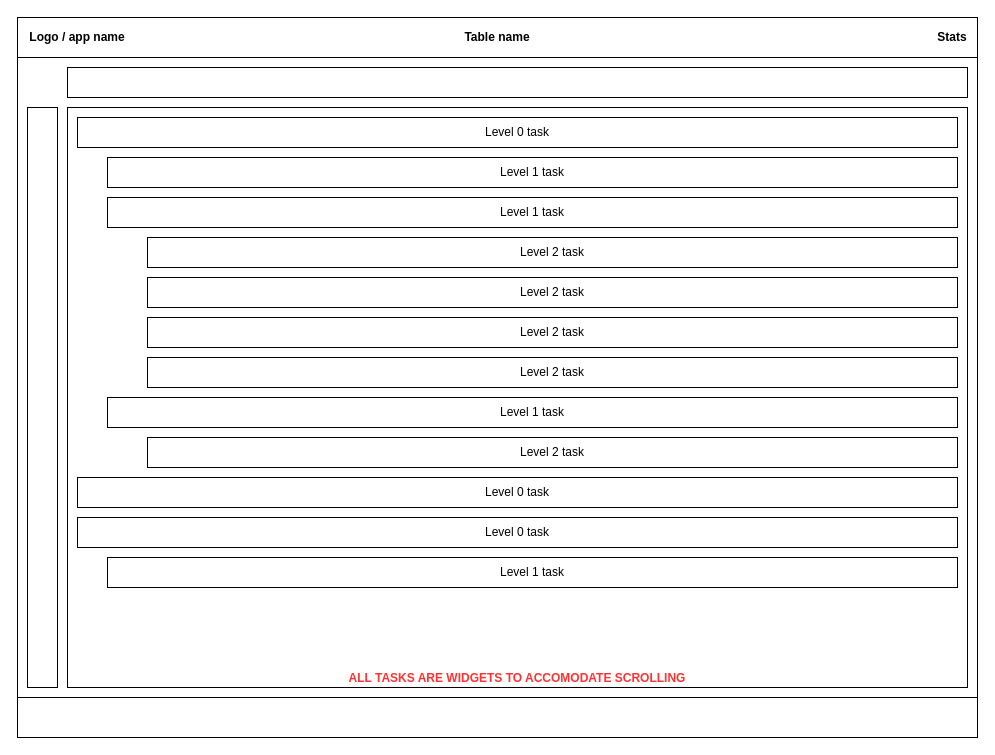
This 995x755 diagram has some shape labels left out. Here are the shapes that lost their labels. From the top down, the box of each, then its label:
(66, 66, 968, 98): Table headers - DOCKED
(26, 106, 58, 688): Indices / line numbers - DOCKED
(16, 696, 978, 738): CONTROLS (Vim motions + menu call)
